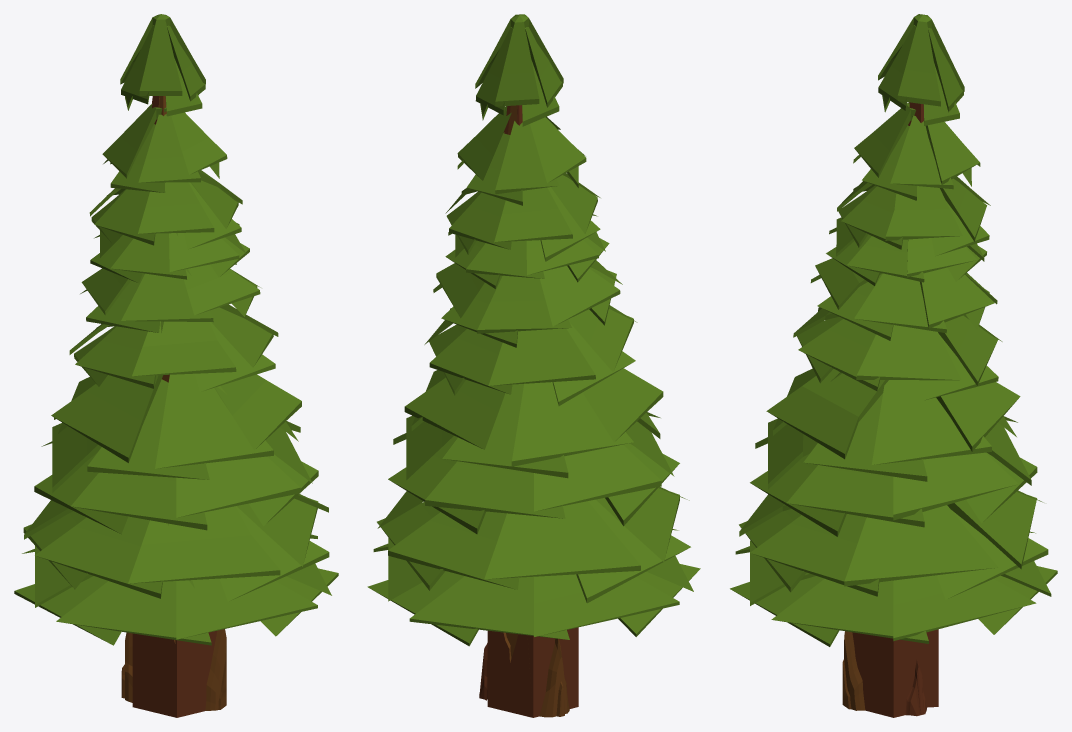
File: Tree_B.fbx
3 views of the same model, side by side, from view 1: azimuth 30°, elevation 25°; view 2: azimuth 150°, elevation 25°; view 3: azimuth 270°, elevation 25° (orthographic). The views are drawn at different scales.
Visible parts, largest first — view 1: polySurface67; view 2: polySurface67; view 3: polySurface67.
Part boxes in pixels (<box>): polySurface67: <box>14,14,338,717</box>; polySurface67: <box>367,14,700,717</box>; polySurface67: <box>730,14,1057,717</box>.
Bounding box in the file's own units: 73.53 × 167 × 72.92.
